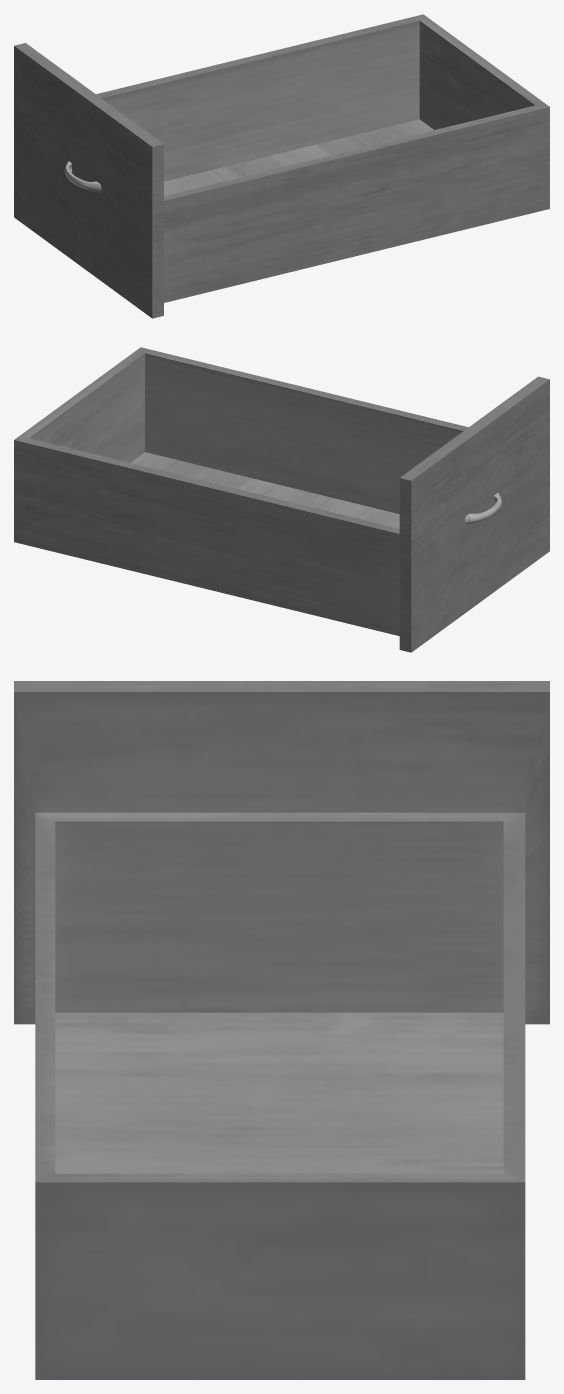
Rendered from SM_WorkingTable_A1_Cab3.fbx.
The picture shows the model from 3 angles, top to bottom: view 1: azimuth 30°, elevation 25°; view 2: azimuth 150°, elevation 25°; view 3: azimuth 270°, elevation 25°; orthographic projection. The views are drawn at different scales.
Parts seen in each view (by area): view 1: SM_WorkingTable_A1_Cab3; view 2: SM_WorkingTable_A1_Cab3; view 3: SM_WorkingTable_A1_Cab3.
Boxes of the visible parts, x1=… form: SM_WorkingTable_A1_Cab3: x1=14, y1=14, x2=549, y2=318; SM_WorkingTable_A1_Cab3: x1=14, y1=347, x2=549, y2=652; SM_WorkingTable_A1_Cab3: x1=14, y1=681, x2=549, y2=1379.
Bounding box in the file's own units: 76.27 × 43.96 × 30.07.
1 material, 1 textured.
